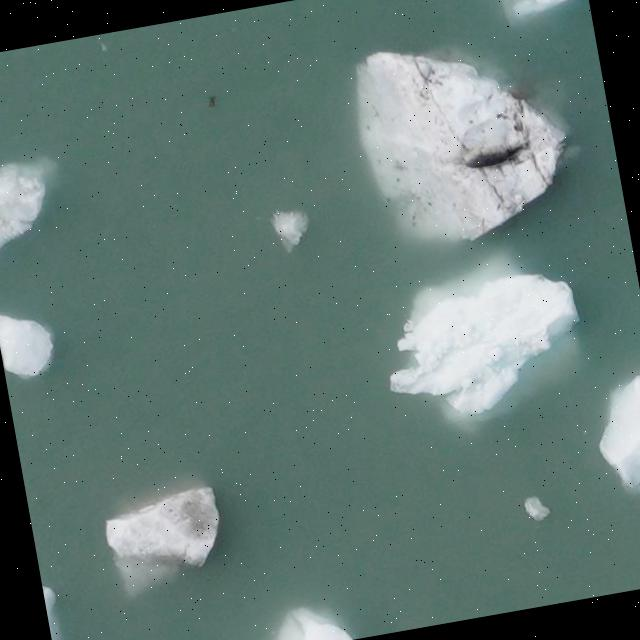seal: (450, 128, 530, 179)
